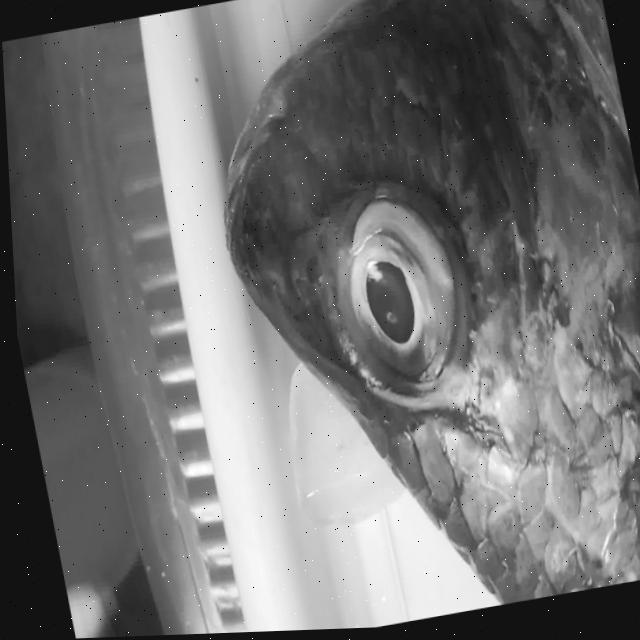Fresh: (280, 132, 499, 447)
